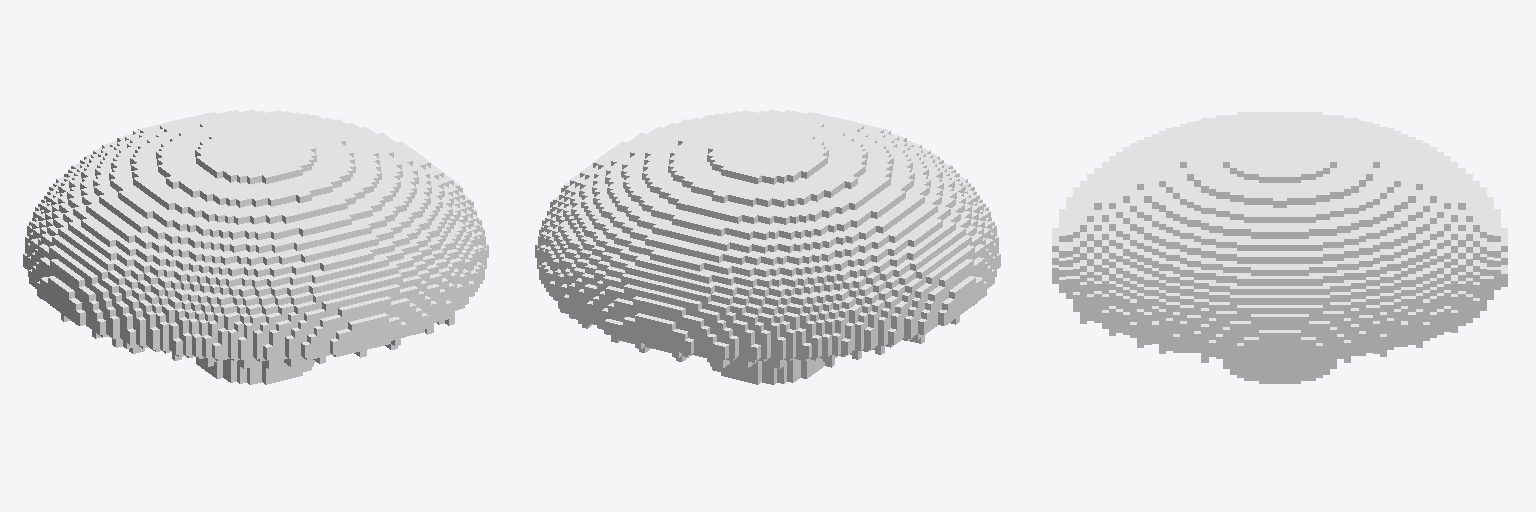
The model's file is giantmushroom.obj.
3 views of the same model, side by side, from view 1: azimuth 30°, elevation 25°; view 2: azimuth 150°, elevation 25°; view 3: azimuth 270°, elevation 25° (orthographic).
Visible parts, largest first — view 1: object 1; view 2: object 1; view 3: object 1.
Part boxes in pixels (left/top/right/bottom): object 1: left=23, top=110, right=488, bottom=384; object 1: left=535, top=110, right=1000, bottom=384; object 1: left=1052, top=112, right=1507, bottom=383.
Bounding box in the file's own units: 6.4 × 3.2 × 6.4.